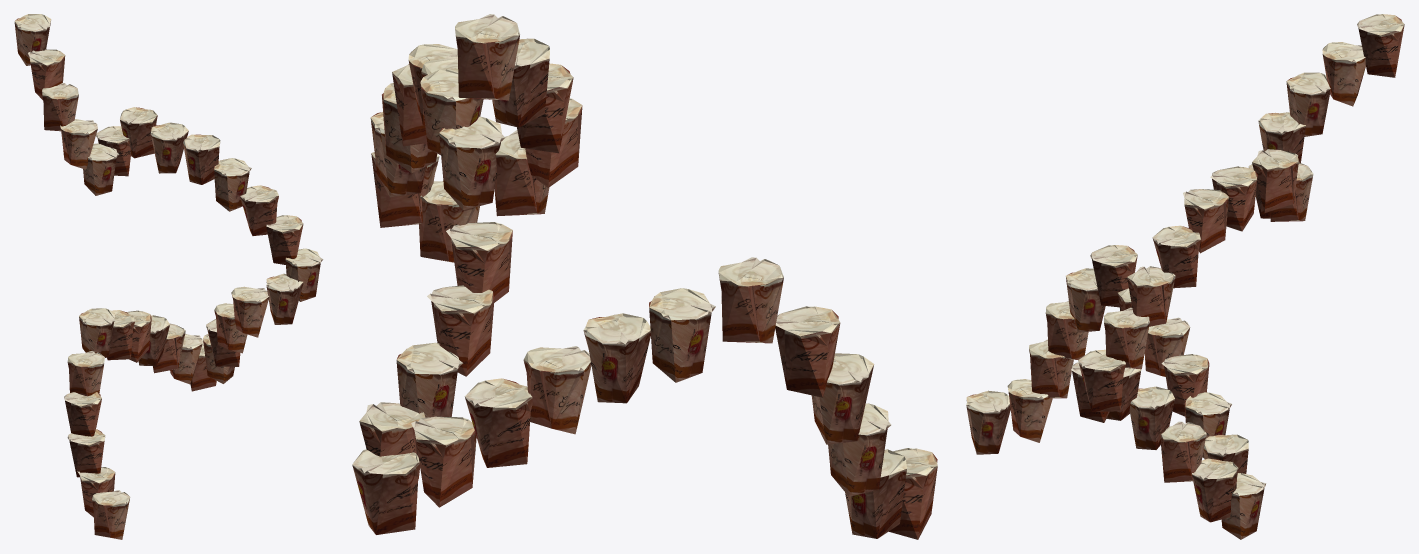
Rendered from jojoDuck_threeJS1.glb.
3 renders of one model, left to right at view 1: azimuth 30°, elevation 25°; view 2: azimuth 150°, elevation 25°; view 3: azimuth 270°, elevation 25°, orthographic. The views are drawn at different scales.
Parts seen in each view (by area): view 1: BézierCurve.002; view 2: BézierCurve.002; view 3: BézierCurve.002.
Part boxes in pixels (bbox=[...]): BézierCurve.002: bbox=[14, 14, 323, 539]; BézierCurve.002: bbox=[352, 14, 937, 539]; BézierCurve.002: bbox=[966, 14, 1404, 539].
Size of the model in its own units: 6.3 by 8.5 by 7.08.
1 material, 1 textured.
